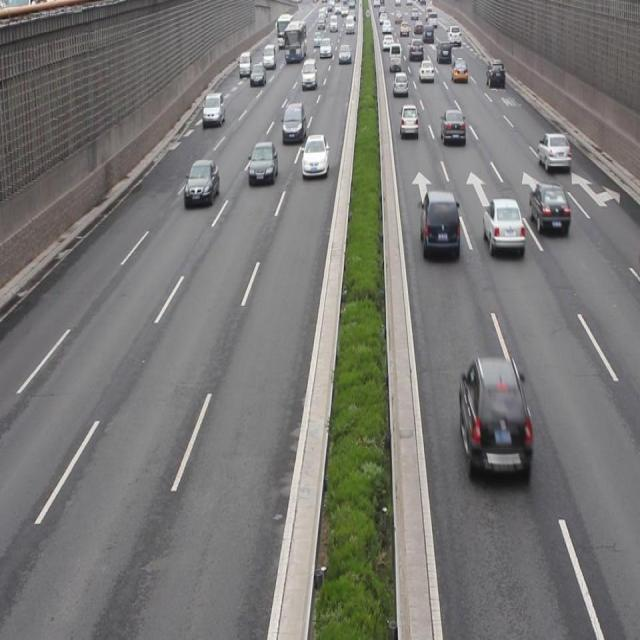car: (457, 354, 532, 484), (482, 200, 523, 258), (528, 184, 568, 237), (536, 132, 571, 176), (184, 160, 218, 203), (247, 142, 278, 186), (300, 133, 330, 178), (280, 100, 306, 142), (440, 109, 465, 149), (398, 104, 417, 140)
truck: (417, 188, 460, 256)
